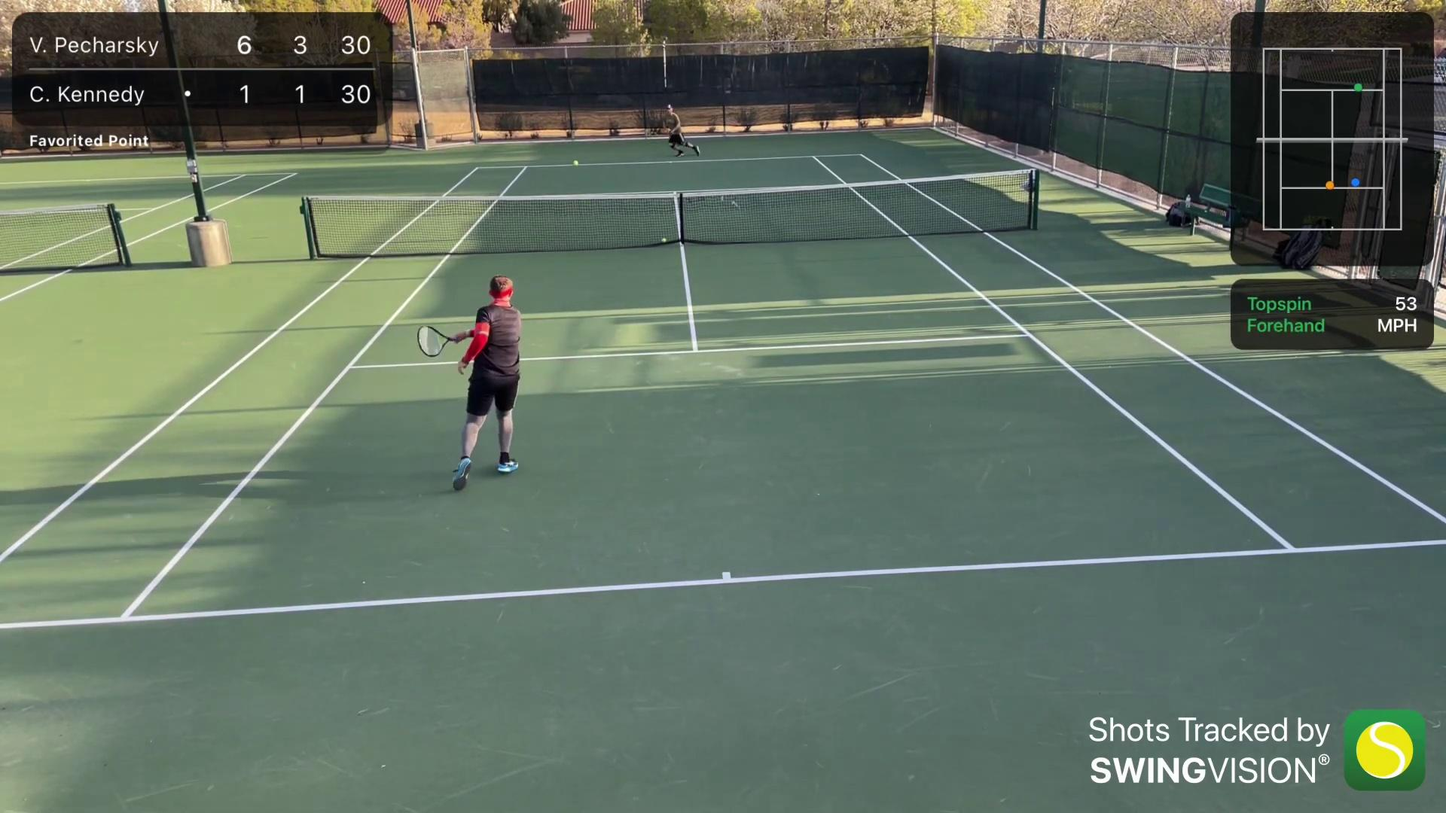ball: (572, 158, 580, 166), (659, 238, 669, 243)
